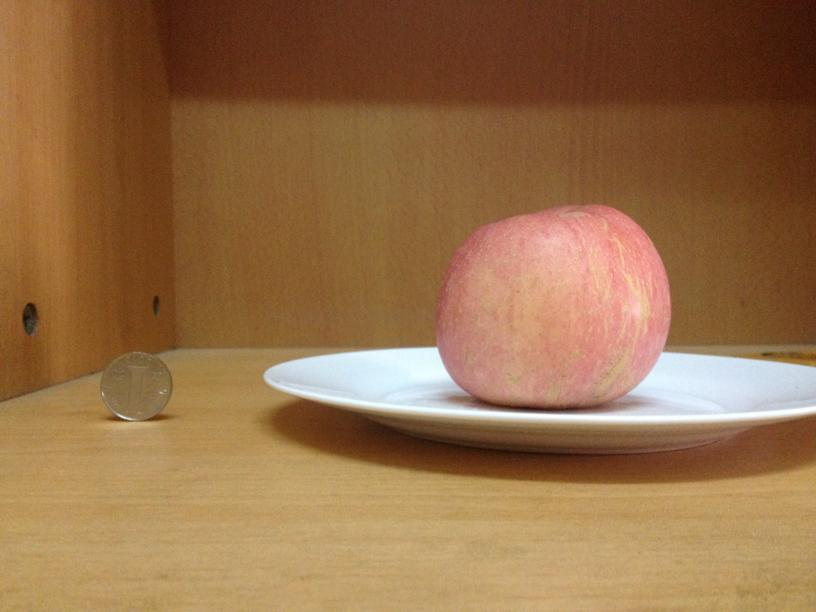apple: (430, 201, 672, 409)
coin: (98, 350, 173, 420)
